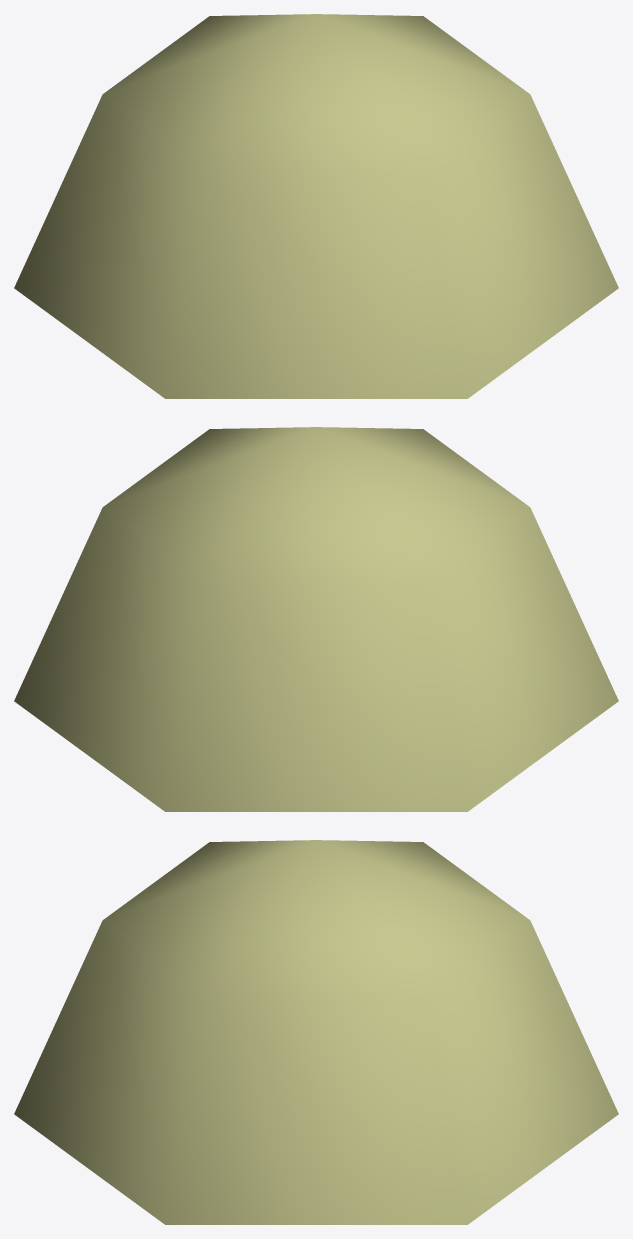
Rendered from heno_variant.glb.
3 views of the same model, one above another, from view 1: azimuth 30°, elevation 25°; view 2: azimuth 150°, elevation 25°; view 3: azimuth 270°, elevation 25° (orthographic).
Parts seen in each view (by area): view 1: Heno_variant-col; view 2: Heno_variant-col; view 3: Heno_variant-col.
Boxes of the visible parts, <box> form: Heno_variant-col: <box>14,14,618,398</box>; Heno_variant-col: <box>14,427,618,811</box>; Heno_variant-col: <box>14,840,618,1224</box>.
Size of the model in its own units: 10.25 by 5.92 by 11.84.
Materials: 1 (1 with a texture image).
